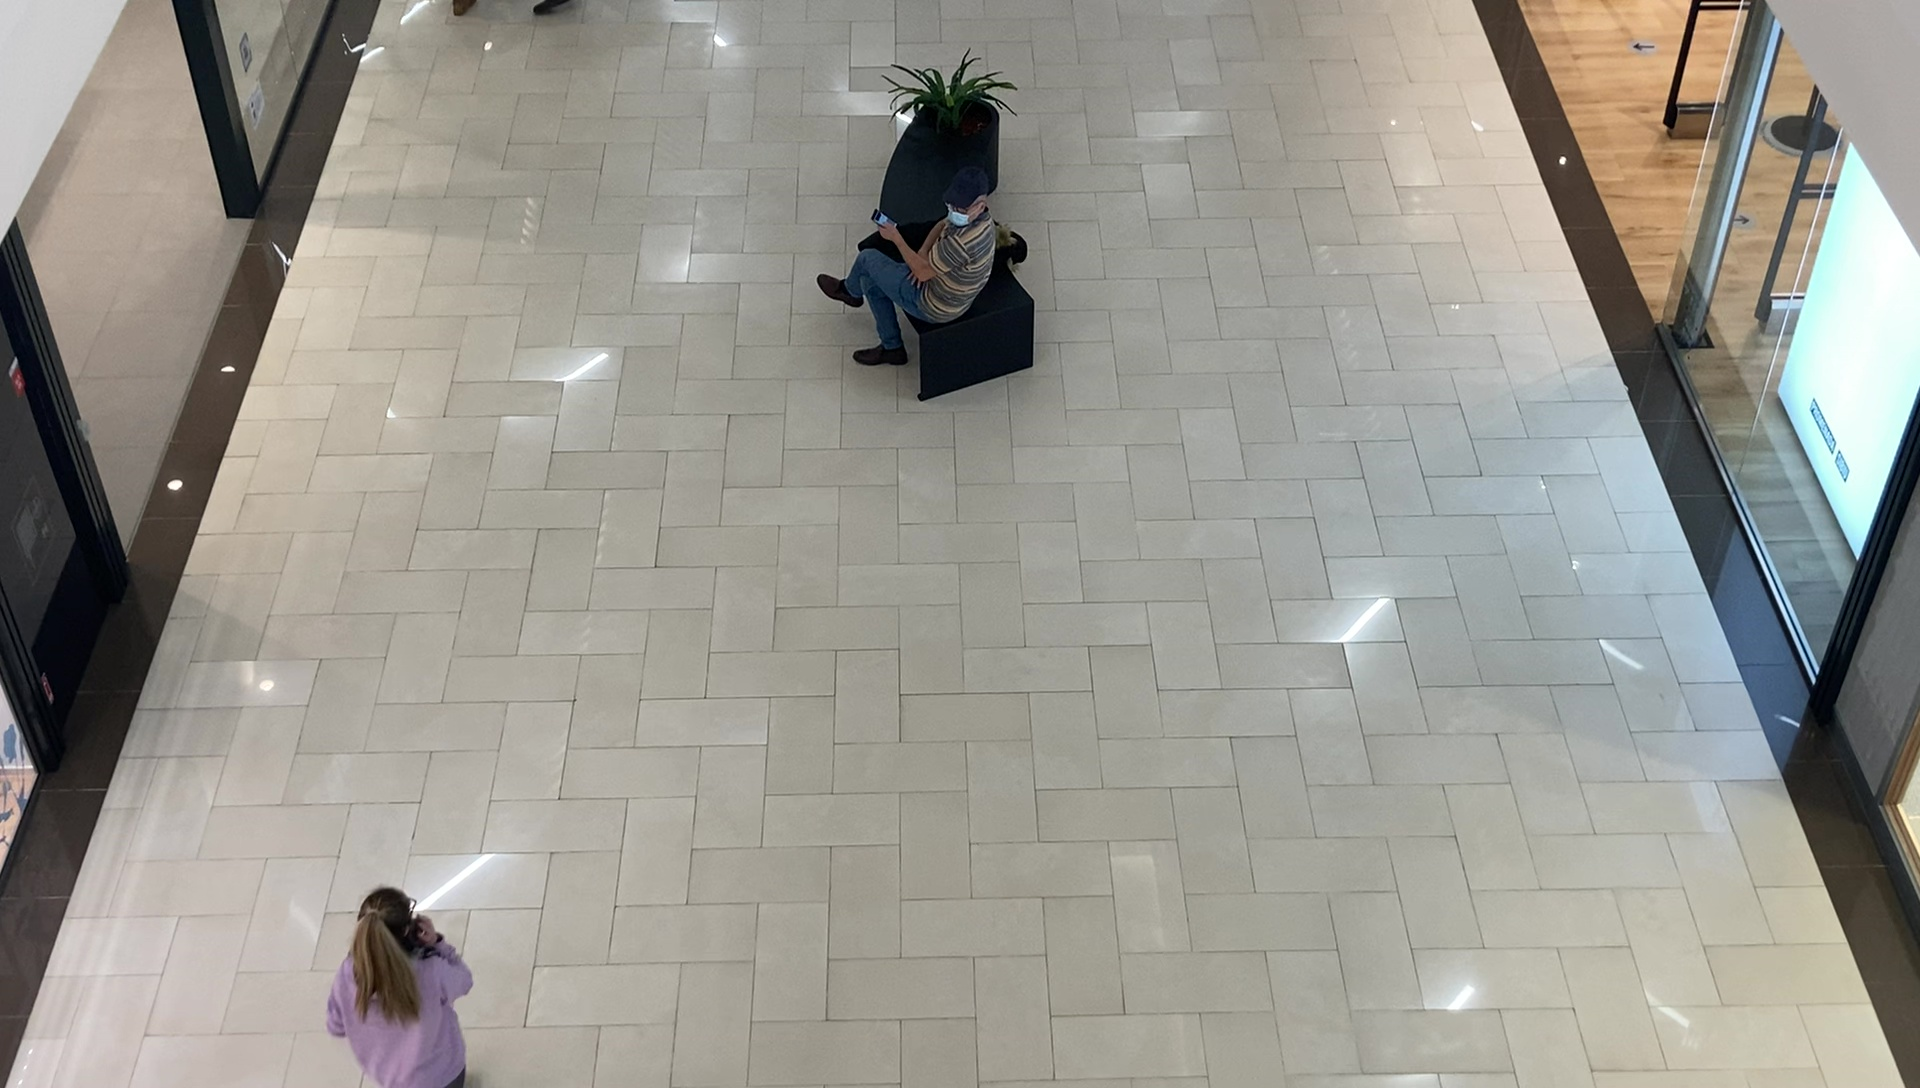person: (816, 168, 991, 368), (326, 885, 473, 1088)
